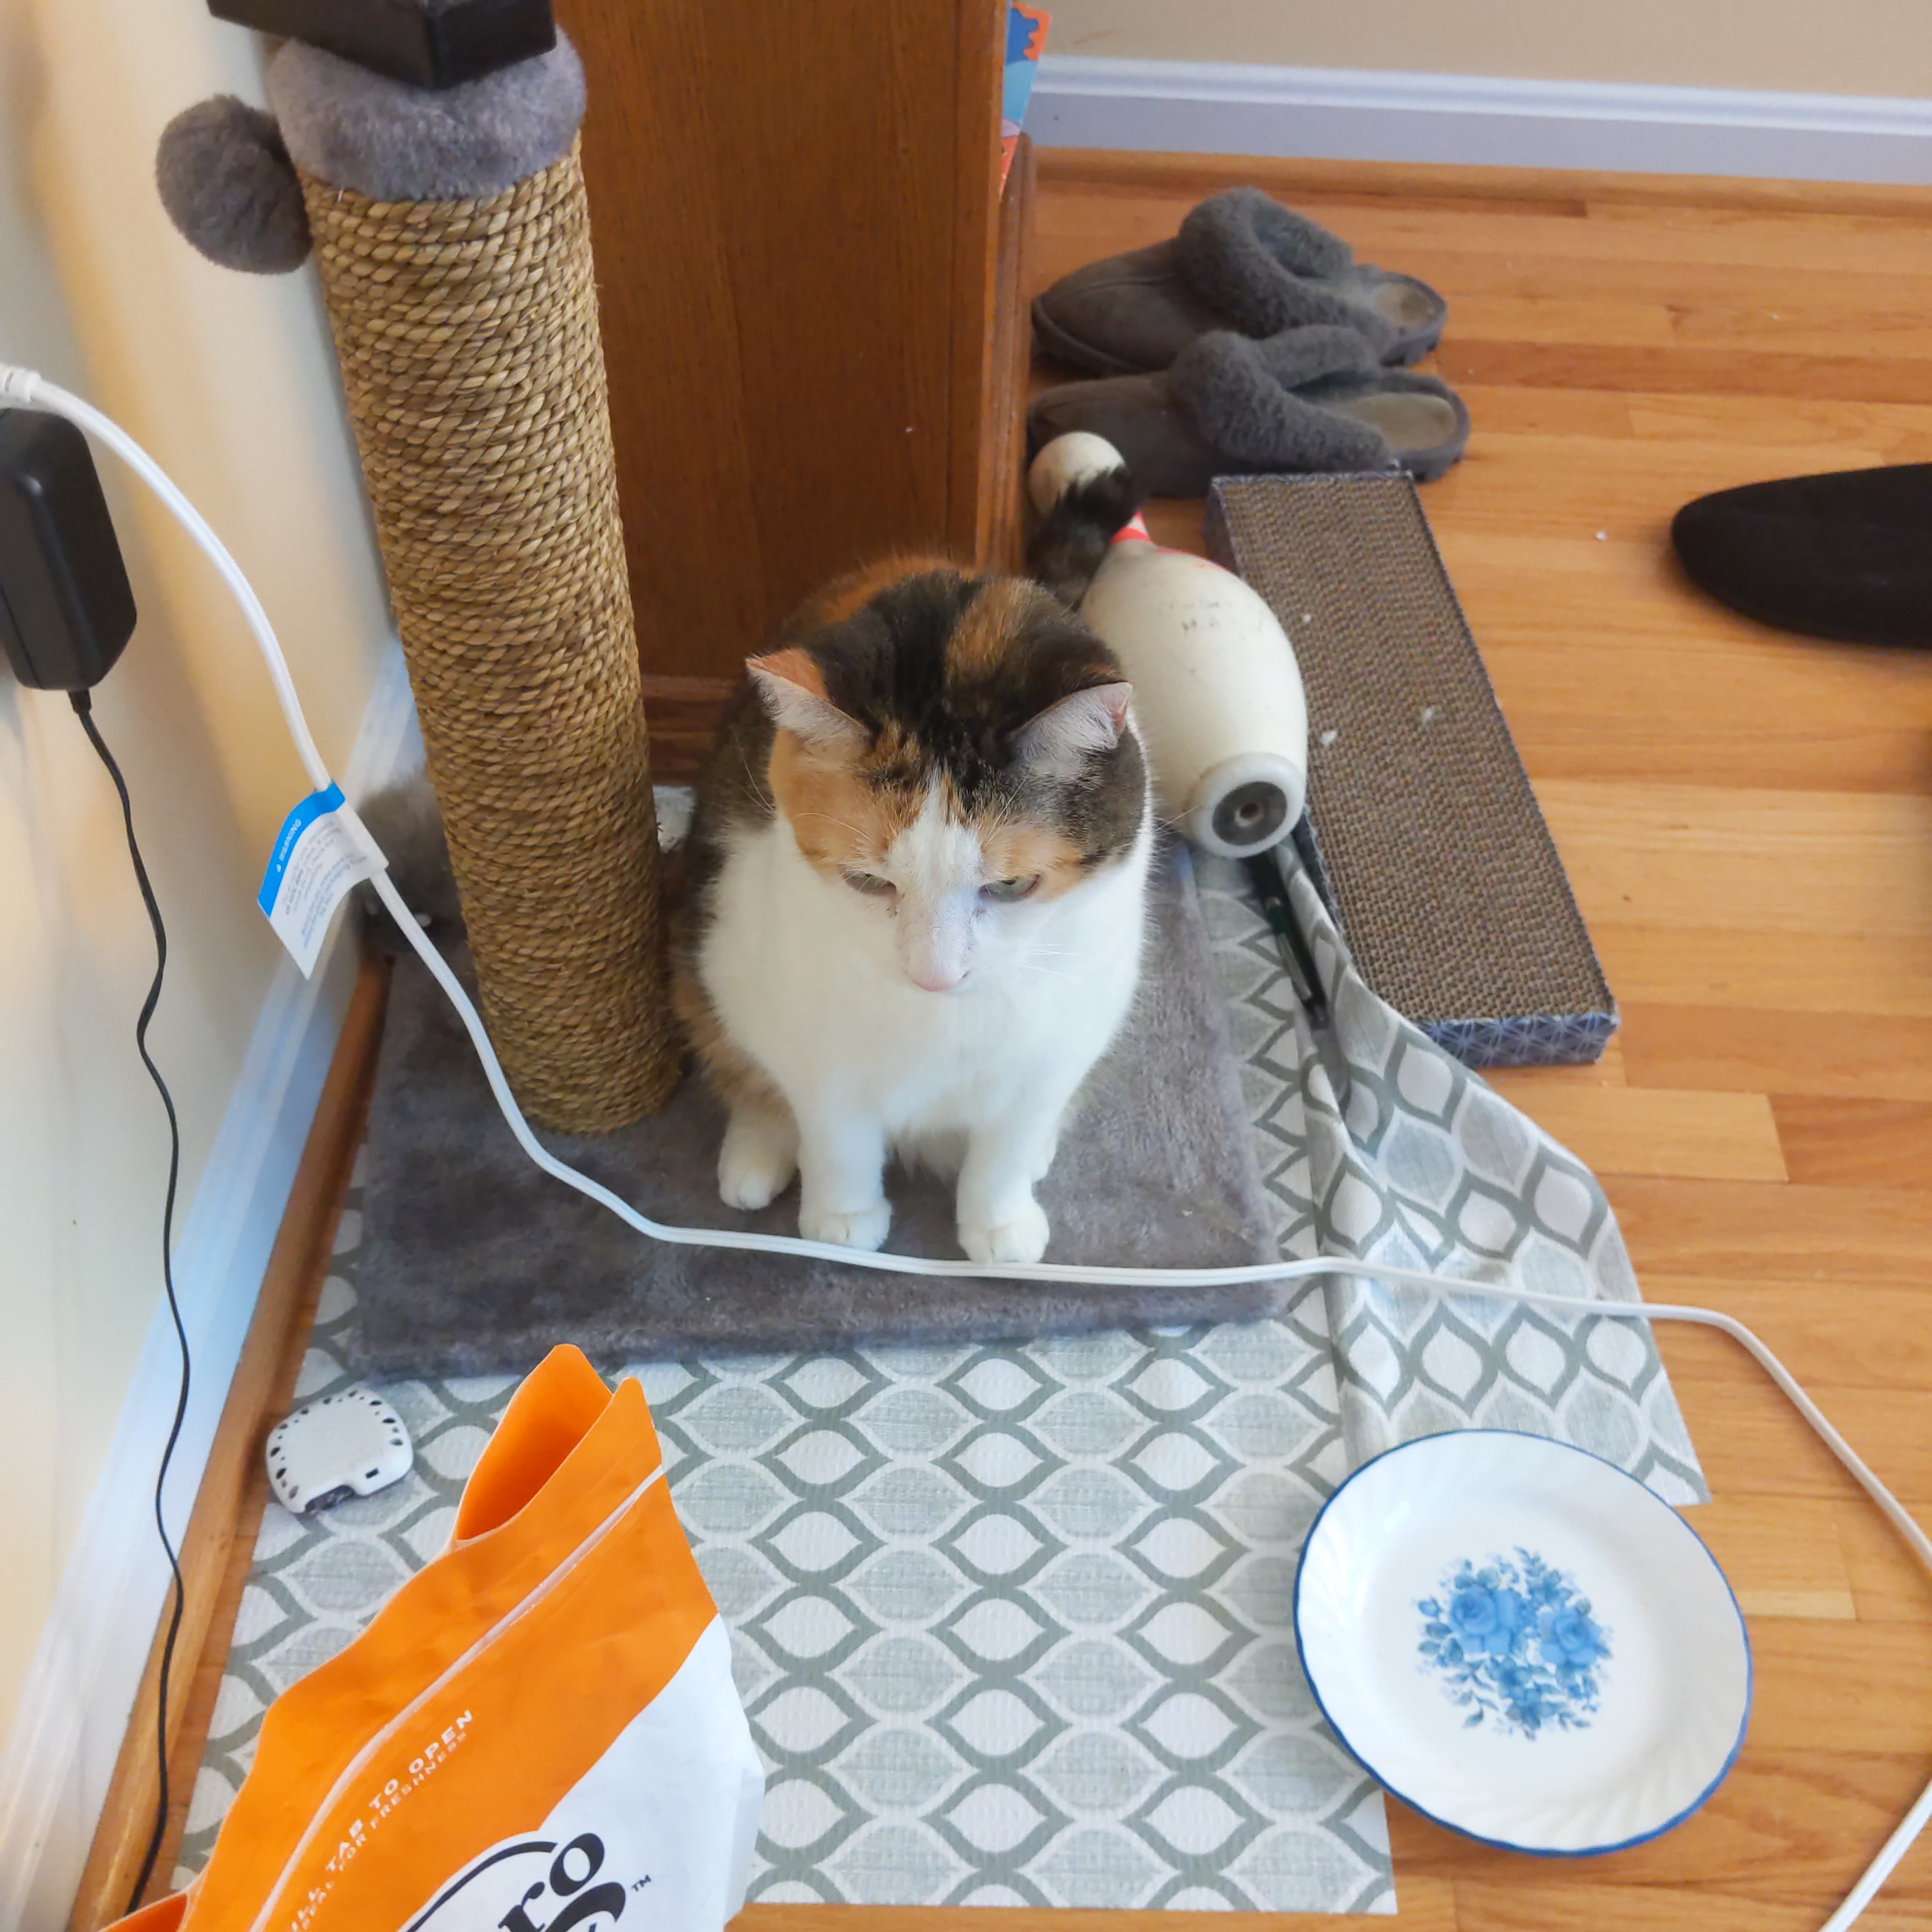Calico: (665, 465, 1155, 1263)
